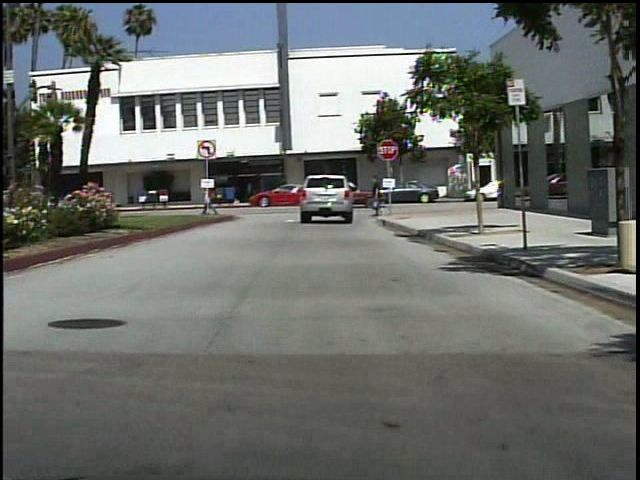person: (195, 177, 225, 219), (369, 174, 391, 220), (250, 178, 251, 203)
